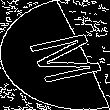M_E: (9, 26, 101, 84)
